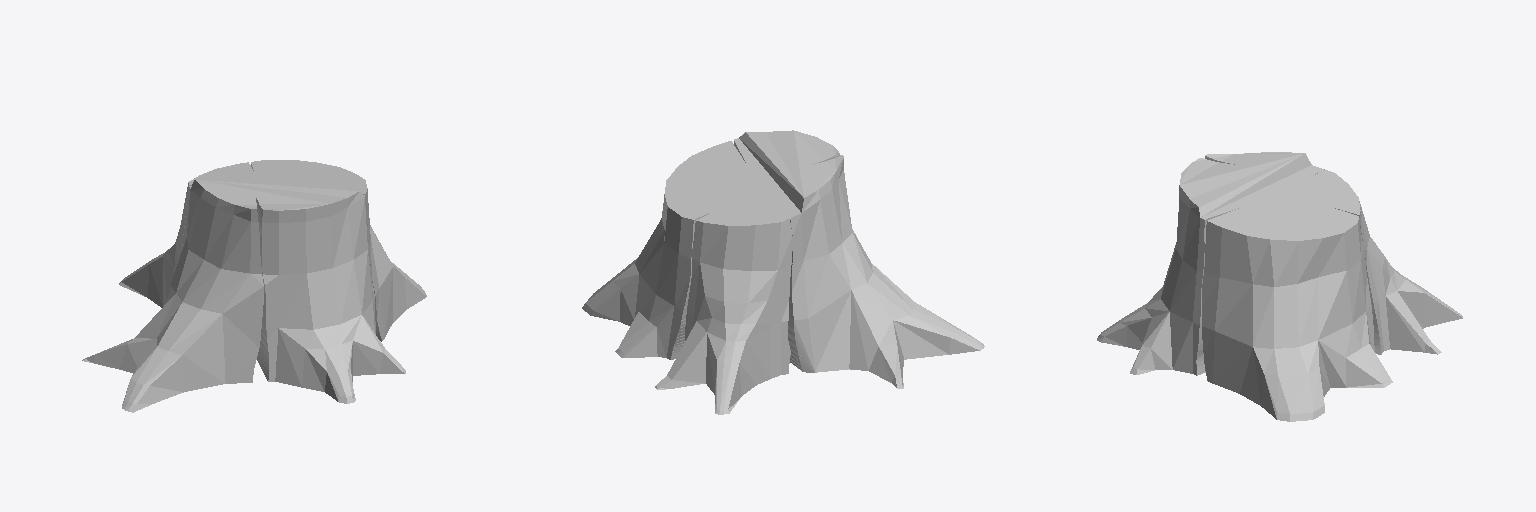
File: Stump N070319.obj
The picture shows the model from 3 angles: view 1: azimuth 30°, elevation 25°; view 2: azimuth 150°, elevation 25°; view 3: azimuth 270°, elevation 25°; orthographic projection.
Parts seen in each view (by area): view 1: Cylinder001; view 2: Cylinder001; view 3: Cylinder001.
Part boxes in pixels (x1,y1,x2,y2): Cylinder001: (82, 160, 426, 412); Cylinder001: (582, 130, 984, 414); Cylinder001: (1097, 152, 1462, 421).
Size of the model in its own units: 1688 by 769 by 1545.